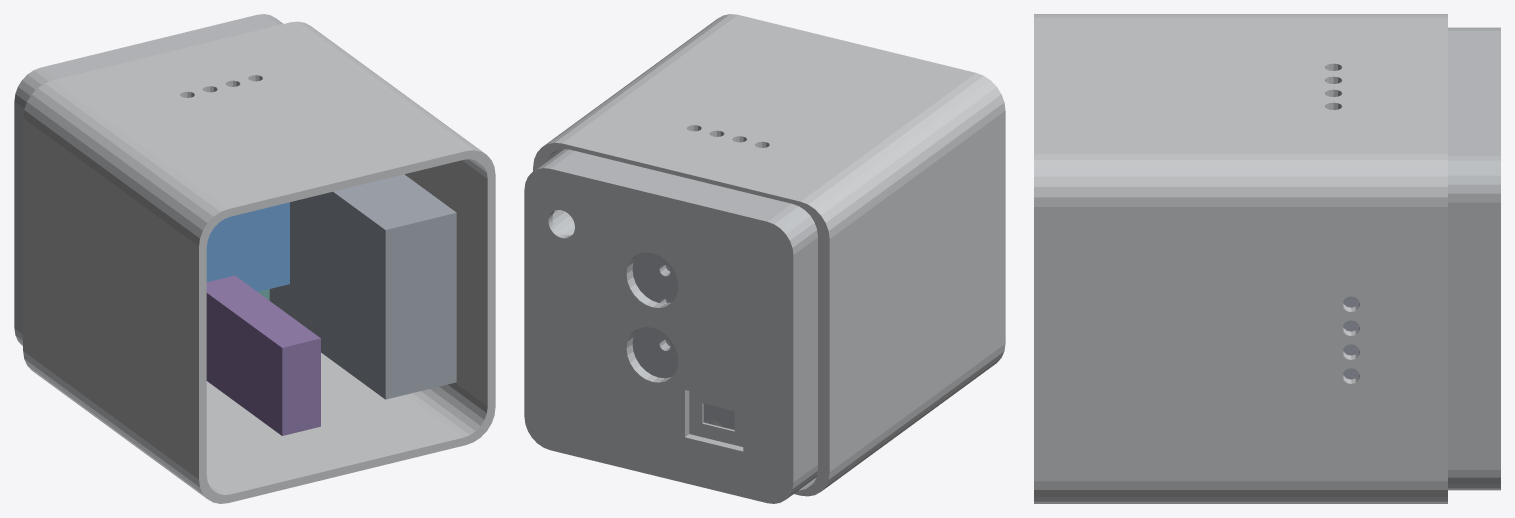
The model's file is outdoor-vertical.glb.
The picture shows the model from 3 angles, left to right: view 1: azimuth 30°, elevation 25°; view 2: azimuth 150°, elevation 25°; view 3: azimuth 270°, elevation 25°; orthographic projection. The views are drawn at different scales.
Visible parts, largest first — view 1: Cover, 1S3P battery, ESP32 LOLIN32, Base, SPS30; view 2: Cover, Base, Grill; view 3: Cover, Base, 1S3P battery.
Boxes of the visible parts, x1,y1,x2,y2 form: Cover: [23, 21, 495, 503]; 1S3P battery: [269, 174, 456, 399]; ESP32 LOLIN32: [206, 275, 320, 435]; Base: [14, 14, 283, 345]; SPS30: [206, 202, 289, 291]; Cover: [533, 14, 1005, 496]; Base: [524, 149, 817, 503]; Grill: [632, 252, 734, 429]; Cover: [1034, 14, 1447, 503]; Base: [1448, 27, 1500, 490]; 1S3P battery: [1343, 296, 1359, 379].
Bounding box in the file's own units: 91.5 × 86.7 × 106.
